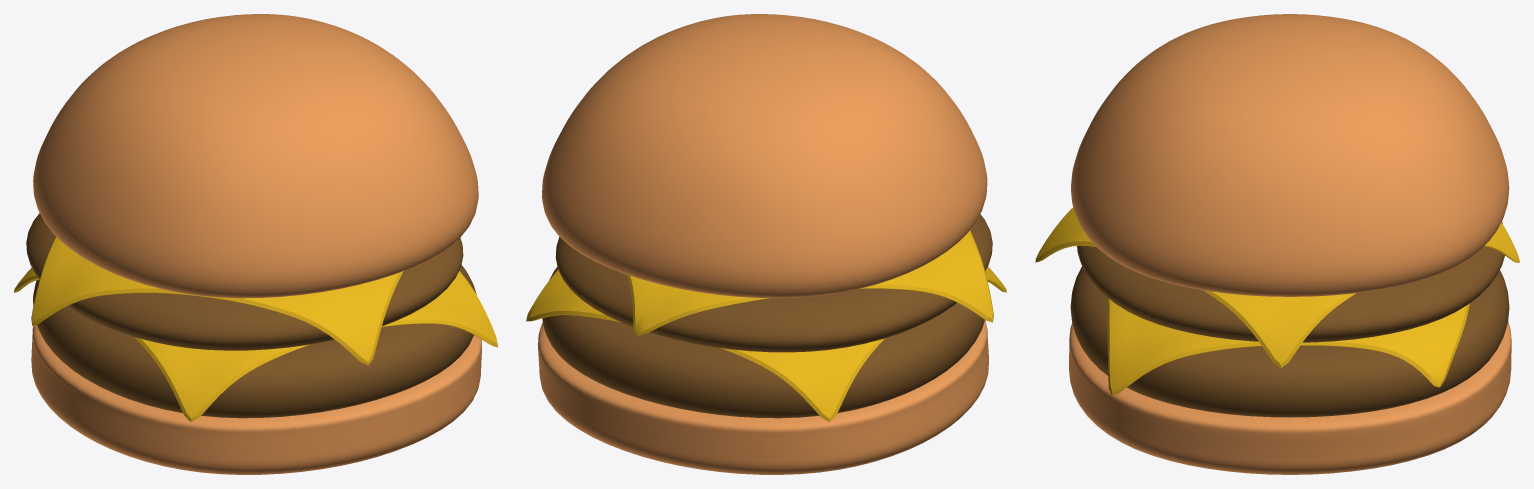
File: burger.glb
3 renders of one model, left to right at view 1: azimuth 30°, elevation 25°; view 2: azimuth 150°, elevation 25°; view 3: azimuth 270°, elevation 25°, orthographic.
Parts seen in each view (by area): view 1: bunTop, bunBottom, meatOne, meatTwo, CheeseTwo, CheeseOne; view 2: bunTop, bunBottom, meatOne, meatTwo, CheeseTwo, CheeseOne; view 3: bunTop, bunBottom, meatOne, meatTwo, CheeseOne, CheeseTwo.
Boxes of the visible parts, bbox=[...] form: bunTop: bbox=[33, 14, 478, 298]; bunBottom: bbox=[31, 324, 481, 474]; meatOne: bbox=[33, 265, 476, 418]; meatTwo: bbox=[26, 213, 463, 350]; CheeseTwo: bbox=[31, 236, 403, 365]; CheeseOne: bbox=[14, 267, 497, 422]; bunTop: bbox=[542, 14, 987, 298]; bunBottom: bbox=[538, 320, 988, 474]; meatOne: bbox=[542, 267, 984, 418]; meatTwo: bbox=[555, 214, 992, 352]; CheeseTwo: bbox=[626, 230, 993, 336]; CheeseOne: bbox=[526, 267, 1006, 421]; bunTop: bbox=[1071, 14, 1509, 296]; bunBottom: bbox=[1069, 321, 1511, 474]; meatOne: bbox=[1070, 266, 1509, 417]; meatTwo: bbox=[1077, 221, 1504, 342]; CheeseOne: bbox=[1107, 298, 1469, 395]; CheeseTwo: bbox=[1035, 207, 1519, 367].
Size of the model in its own units: 10.15 by 8.16 by 9.92.
